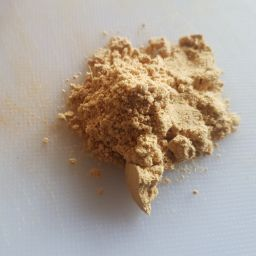Ginger powder: (31, 74, 245, 222), (69, 20, 232, 211), (109, 64, 212, 164)
